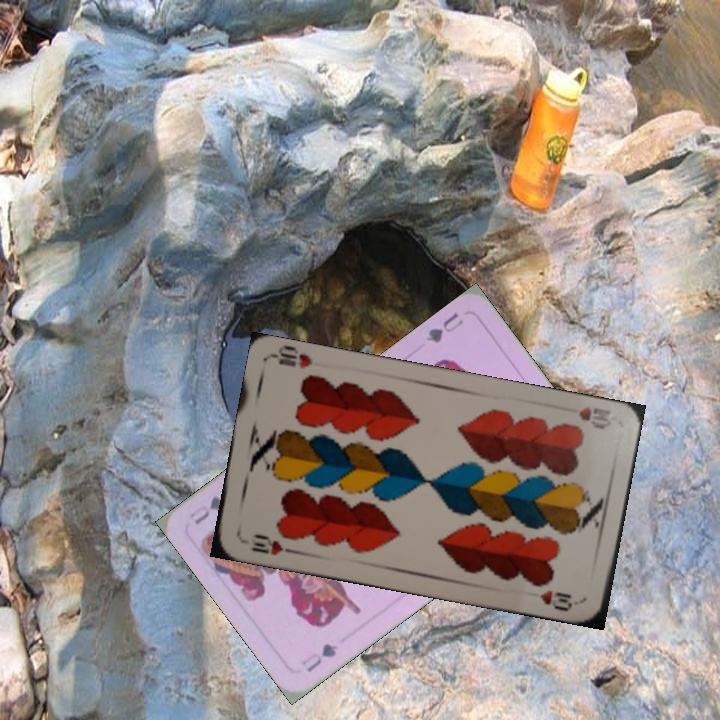GU: (422, 308, 466, 346), (297, 639, 341, 675)
H10: (248, 529, 297, 558), (575, 402, 614, 432)
